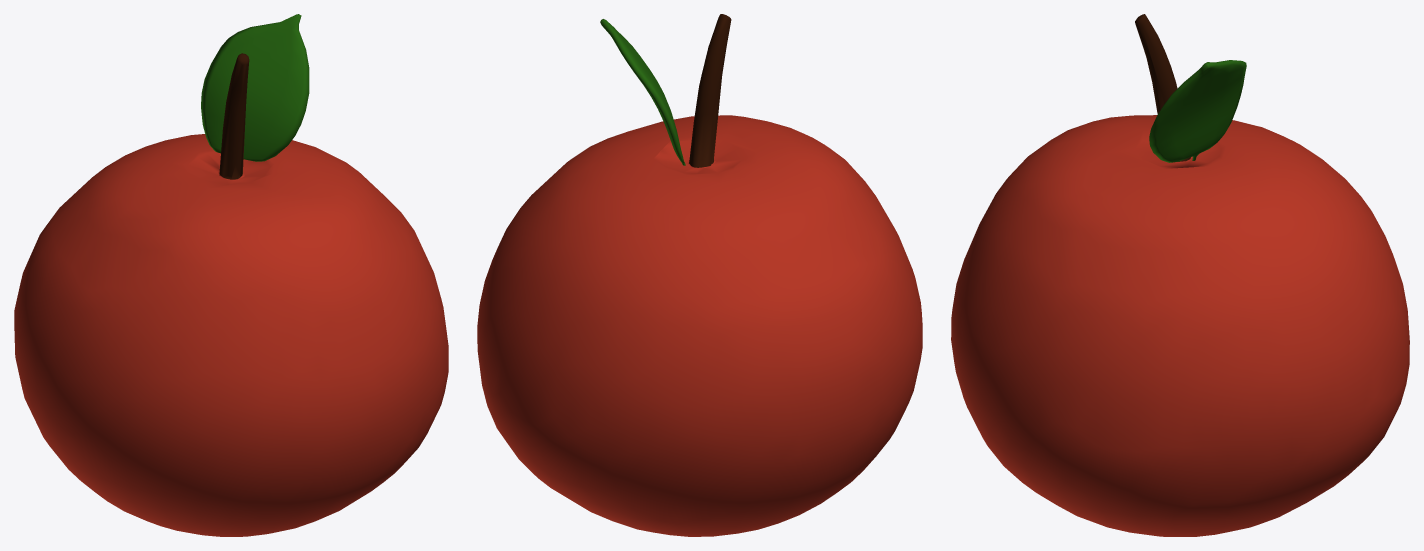
The model's file is Apple.fbx.
The picture shows the model from 3 angles, left to right: view 1: azimuth 30°, elevation 25°; view 2: azimuth 150°, elevation 25°; view 3: azimuth 270°, elevation 25°; orthographic projection. The views are drawn at different scales.
Visible parts, largest first — view 1: Apple_1, Leaf.002; view 2: Apple_1, Leaf.002; view 3: Apple_1, Leaf.002.
Boxes of the visible parts, x1,y1,x2,y2 form: Apple_1: (14, 53, 448, 536); Leaf.002: (201, 14, 309, 161); Apple_1: (477, 14, 922, 536); Leaf.002: (600, 19, 685, 165); Apple_1: (951, 14, 1409, 536); Leaf.002: (1149, 60, 1246, 162).
Bounding box in the file's own units: 112 × 136 × 113.
